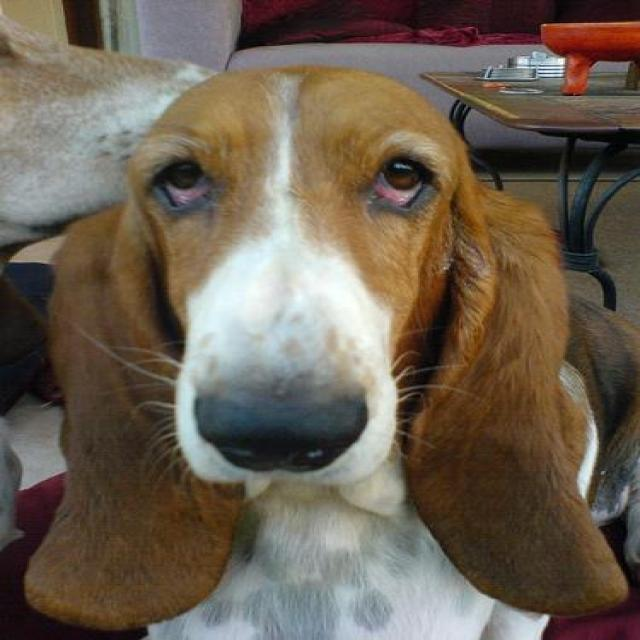basset: (26, 65, 632, 638)
